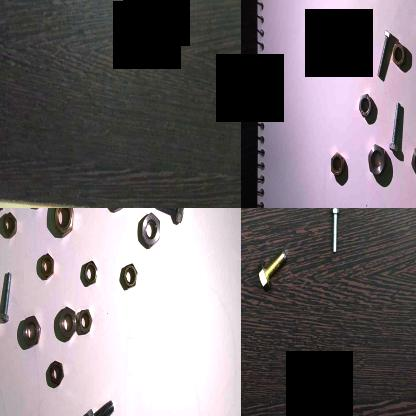Bolts: (258, 245, 288, 293), (323, 208, 343, 258), (388, 99, 404, 157), (376, 29, 394, 80), (0, 270, 13, 326), (154, 208, 186, 227), (85, 397, 116, 416)
NUTS: (56, 304, 80, 342), (22, 313, 42, 350), (140, 212, 160, 248), (52, 208, 76, 237), (368, 142, 386, 179), (356, 91, 375, 119), (78, 307, 94, 339), (326, 151, 344, 179), (3, 212, 18, 242), (123, 260, 138, 290), (48, 360, 64, 388), (84, 260, 98, 288), (42, 251, 56, 278), (392, 43, 406, 69), (136, 0, 148, 16), (412, 144, 416, 180)
